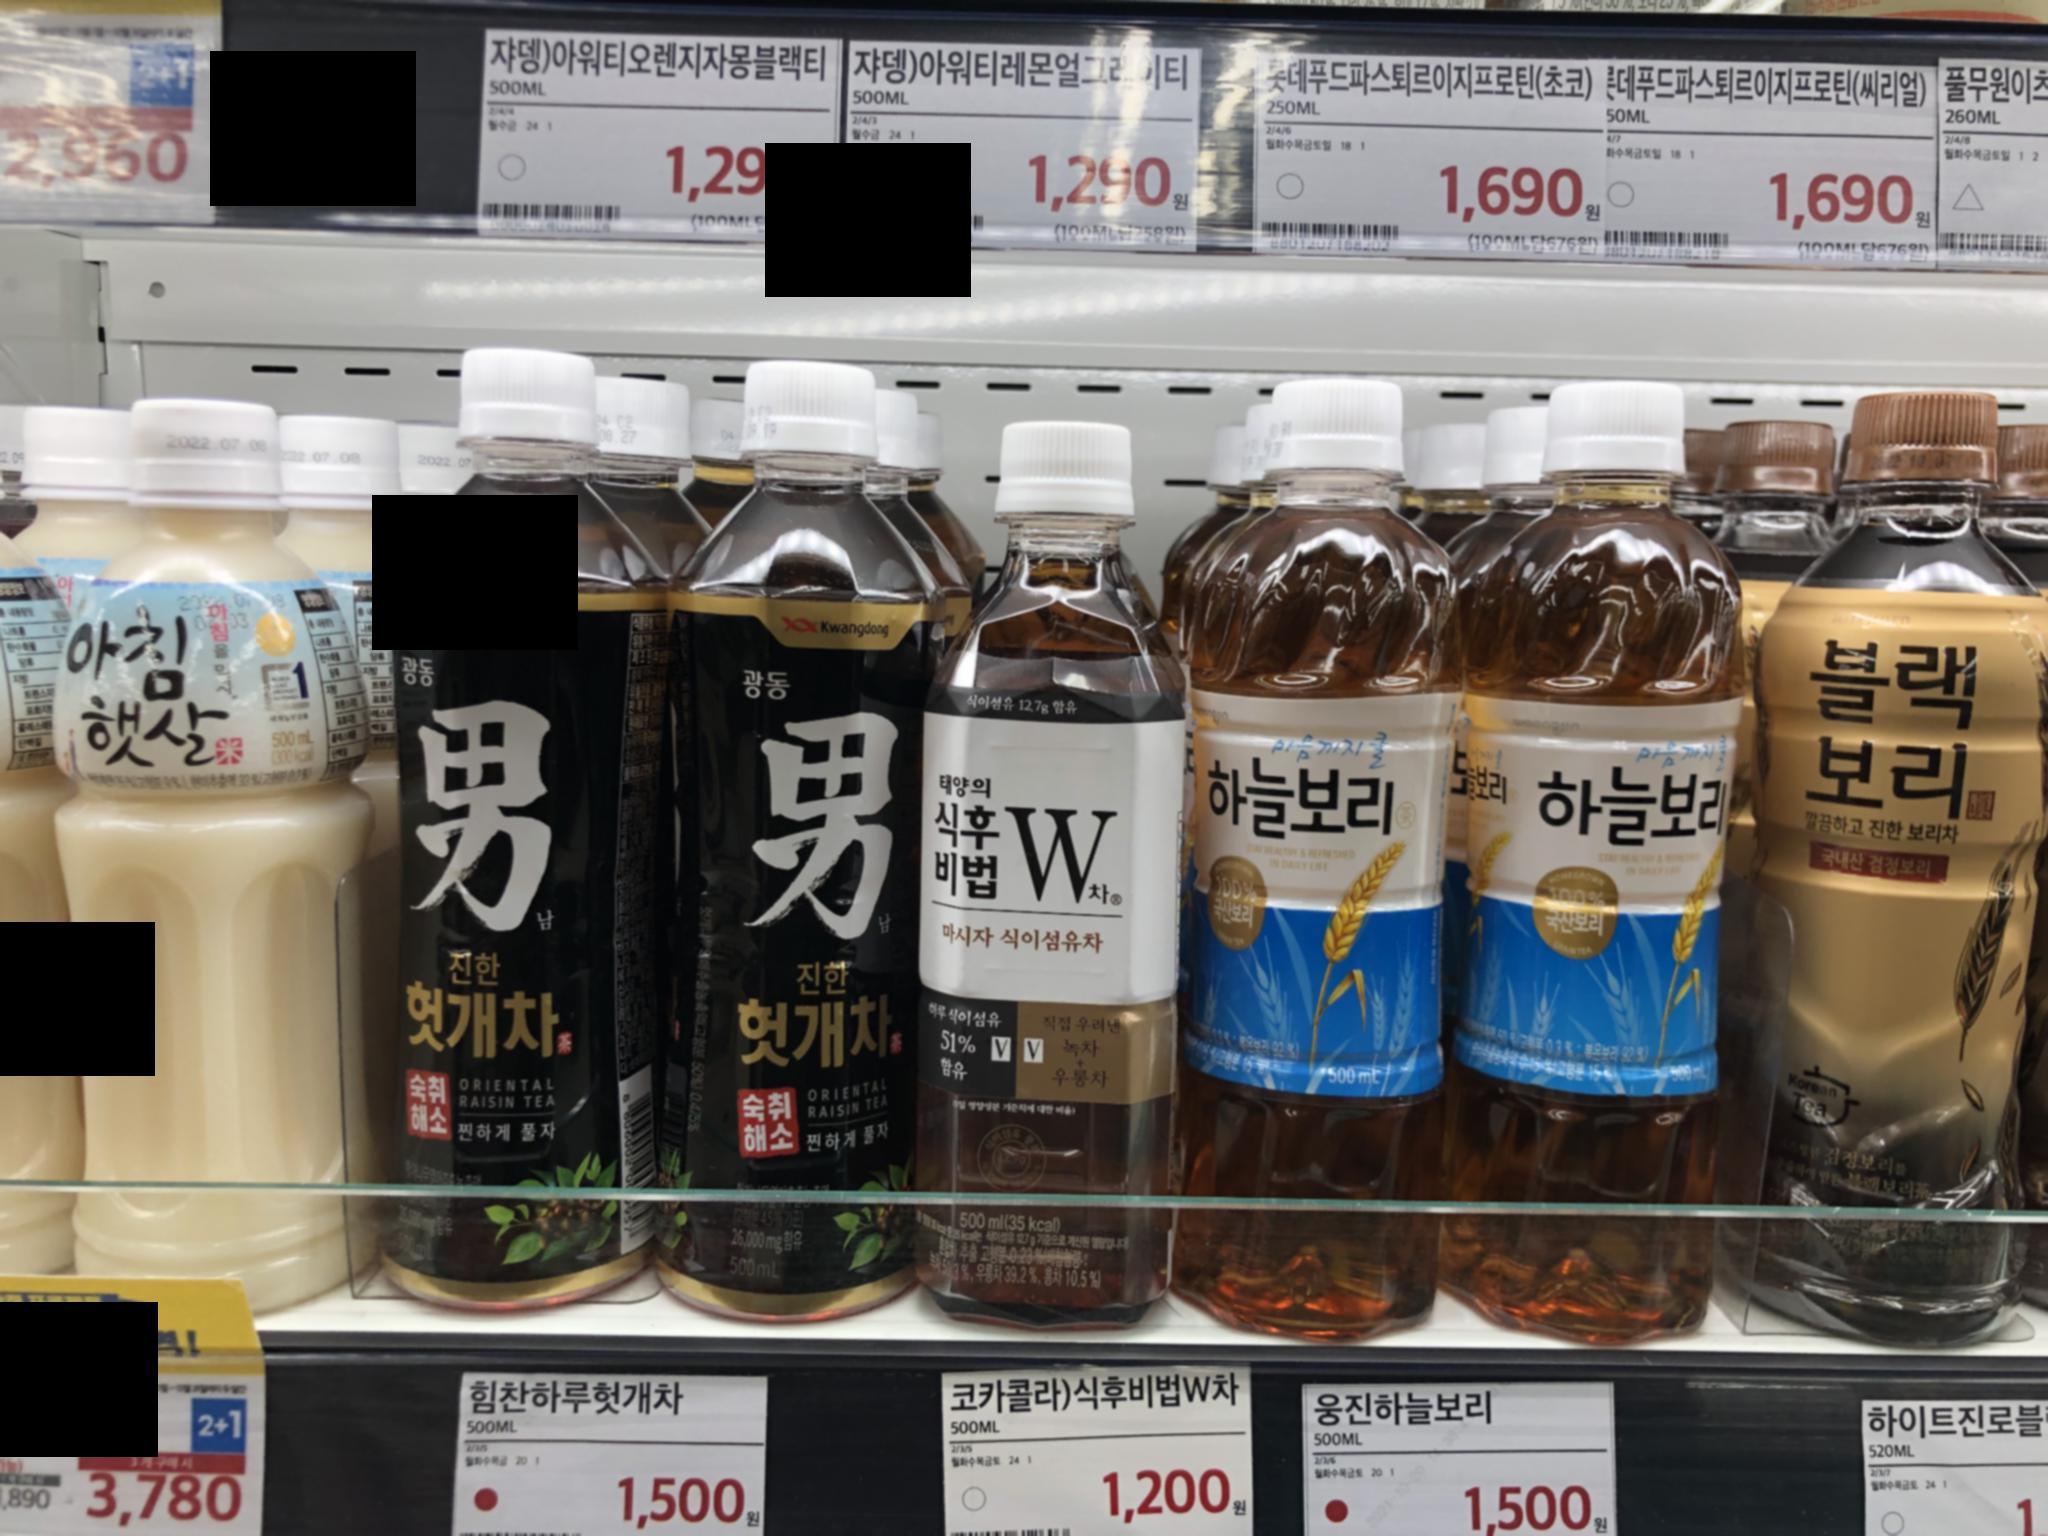haneulbori: (1190, 350, 1456, 1367), (1469, 371, 1745, 1347)
heotgaecha: (358, 315, 637, 1315), (651, 350, 930, 1318)
